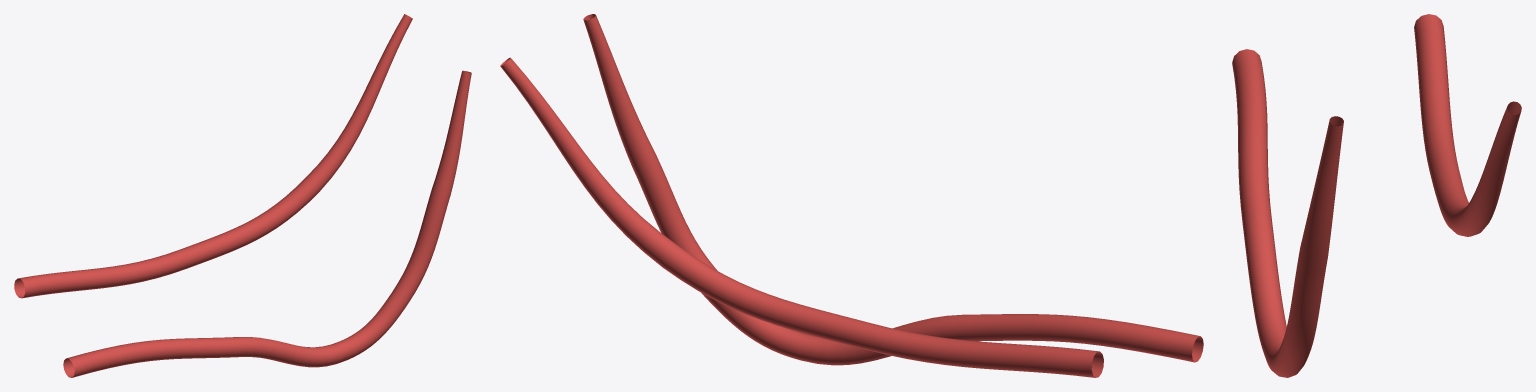
The picture shows the model from 3 angles, left to right: view 1: azimuth 30°, elevation 25°; view 2: azimuth 150°, elevation 25°; view 3: azimuth 270°, elevation 25°; orthographic projection. The views are drawn at different scales.
Parts seen in each view (by area): view 1: 左侧基底动脉旁正中支; view 2: 左侧基底动脉旁正中支; view 3: 左侧基底动脉旁正中支.
Boxes of the visible parts, x1,y1,x2,y2 form: 左侧基底动脉旁正中支: (14, 14, 471, 377); 左侧基底动脉旁正中支: (500, 14, 1203, 377); 左侧基底动脉旁正中支: (1232, 14, 1521, 377).
Size of the model in its own units: 0.0145 by 0.00804 by 0.00575.
